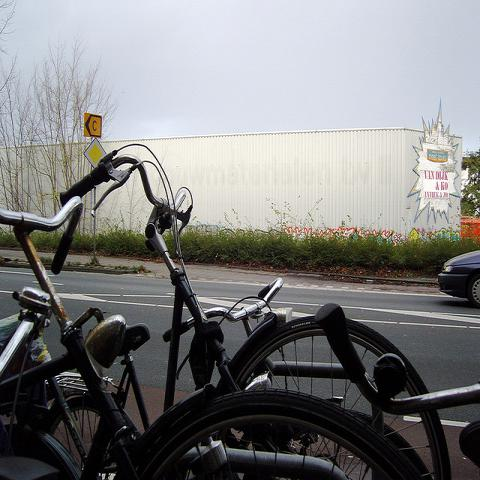car: (436, 250, 480, 306)
